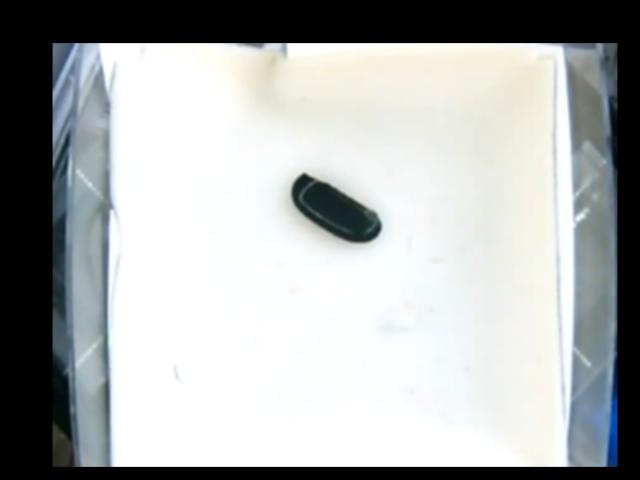Pebble: (291, 172, 380, 243)
